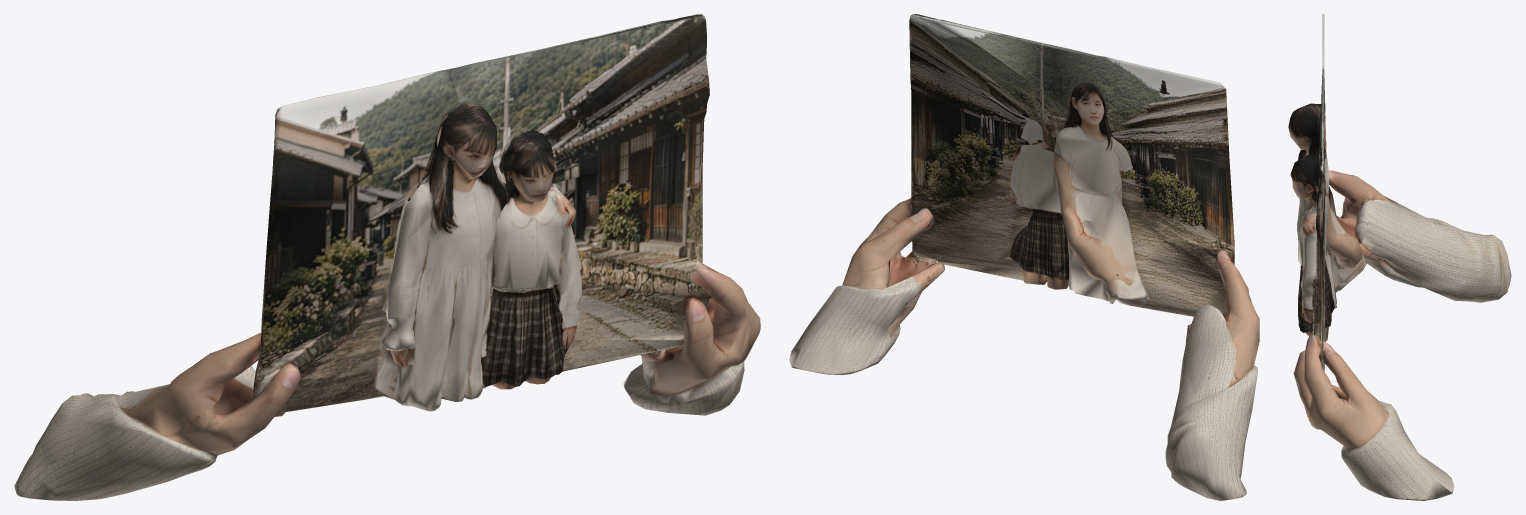
File: photo-hands.glb
3 renders of one model, left to right at view 1: azimuth 30°, elevation 25°; view 2: azimuth 150°, elevation 25°; view 3: azimuth 270°, elevation 25°, orthographic. The views are drawn at different scales.
Parts seen in each view (by area): view 1: tripo_node_9cb47a00-c929-4548-adb0-f6fc7731c715; view 2: tripo_node_9cb47a00-c929-4548-adb0-f6fc7731c715; view 3: tripo_node_9cb47a00-c929-4548-adb0-f6fc7731c715.
Part boxes in pixels (left/top/right/bottom): tripo_node_9cb47a00-c929-4548-adb0-f6fc7731c715: left=14, top=14, right=760, bottom=500; tripo_node_9cb47a00-c929-4548-adb0-f6fc7731c715: left=789, top=14, right=1259, bottom=500; tripo_node_9cb47a00-c929-4548-adb0-f6fc7731c715: left=1288, top=14, right=1511, bottom=500.
Bounding box in the file's own units: 0.9754 × 0.6197 × 0.4035.
1 material, 1 textured.
